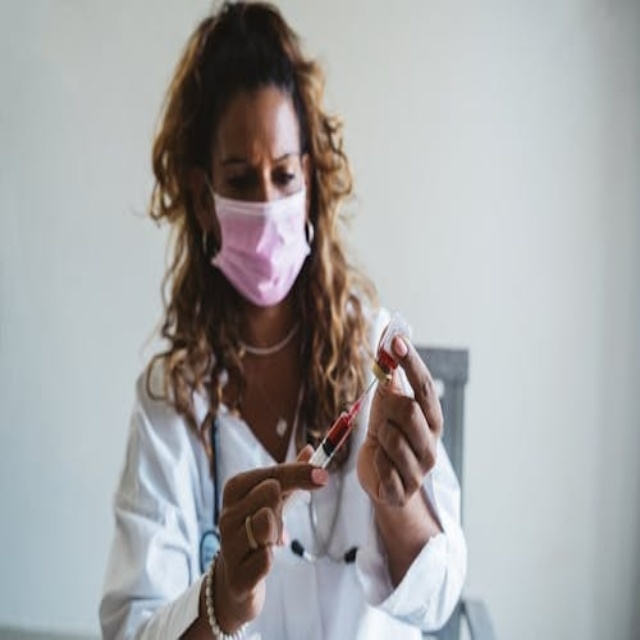Mascara: (205, 175, 313, 306)
Sin_gafas: (207, 140, 308, 196)
Sin_guantes: (209, 463, 316, 633), (357, 323, 444, 520)
